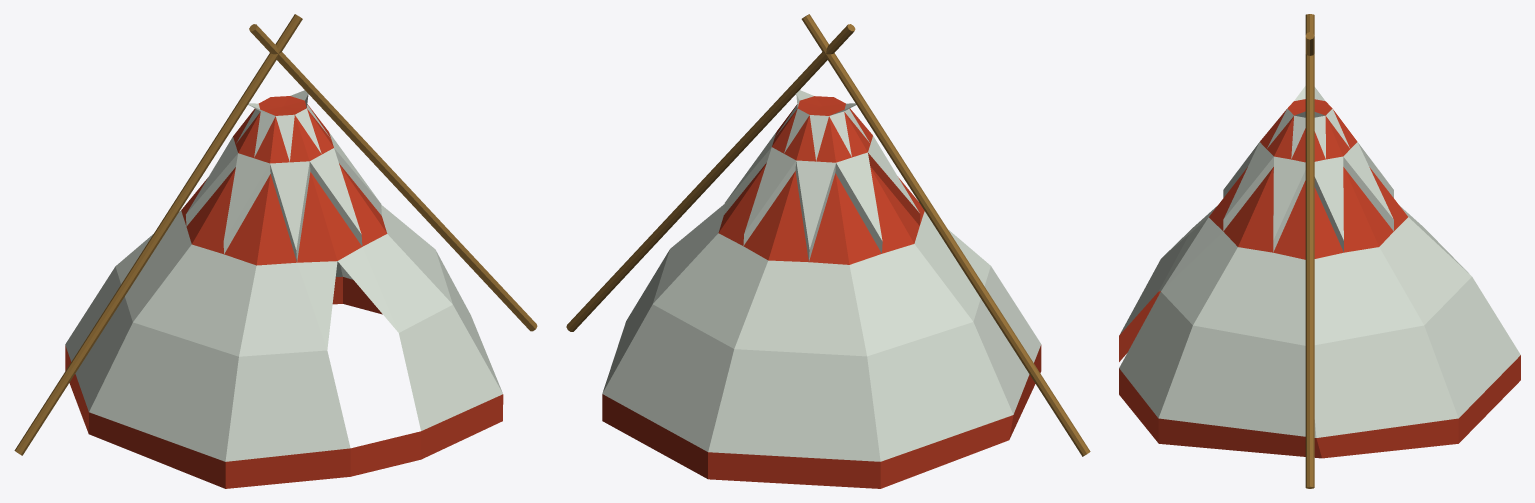
File: Tent_M_Red.fbx
The picture shows the model from 3 angles, left to right: view 1: azimuth 30°, elevation 25°; view 2: azimuth 150°, elevation 25°; view 3: azimuth 270°, elevation 25°; orthographic projection. The views are drawn at different scales.
Parts seen in each view (by area): view 1: Tent_M_Red; view 2: Tent_M_Red; view 3: Tent_M_Red.
Boxes of the visible parts, bbox=[...] form: Tent_M_Red: bbox=[14, 14, 537, 488]; Tent_M_Red: bbox=[566, 14, 1090, 488]; Tent_M_Red: bbox=[1119, 14, 1520, 488].
Size of the model in its own units: 270 by 187 by 192.
